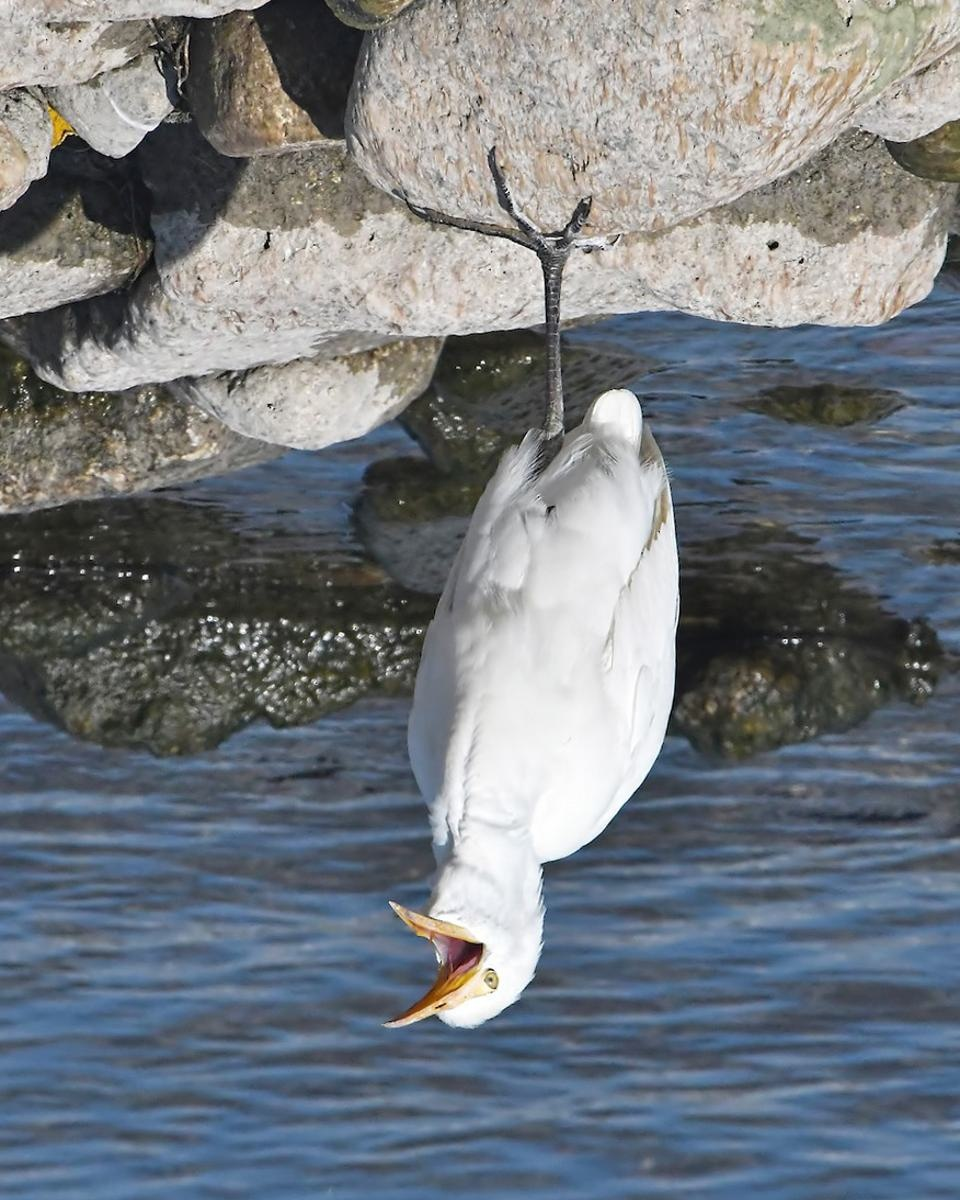egret: (372, 160, 686, 1051)
